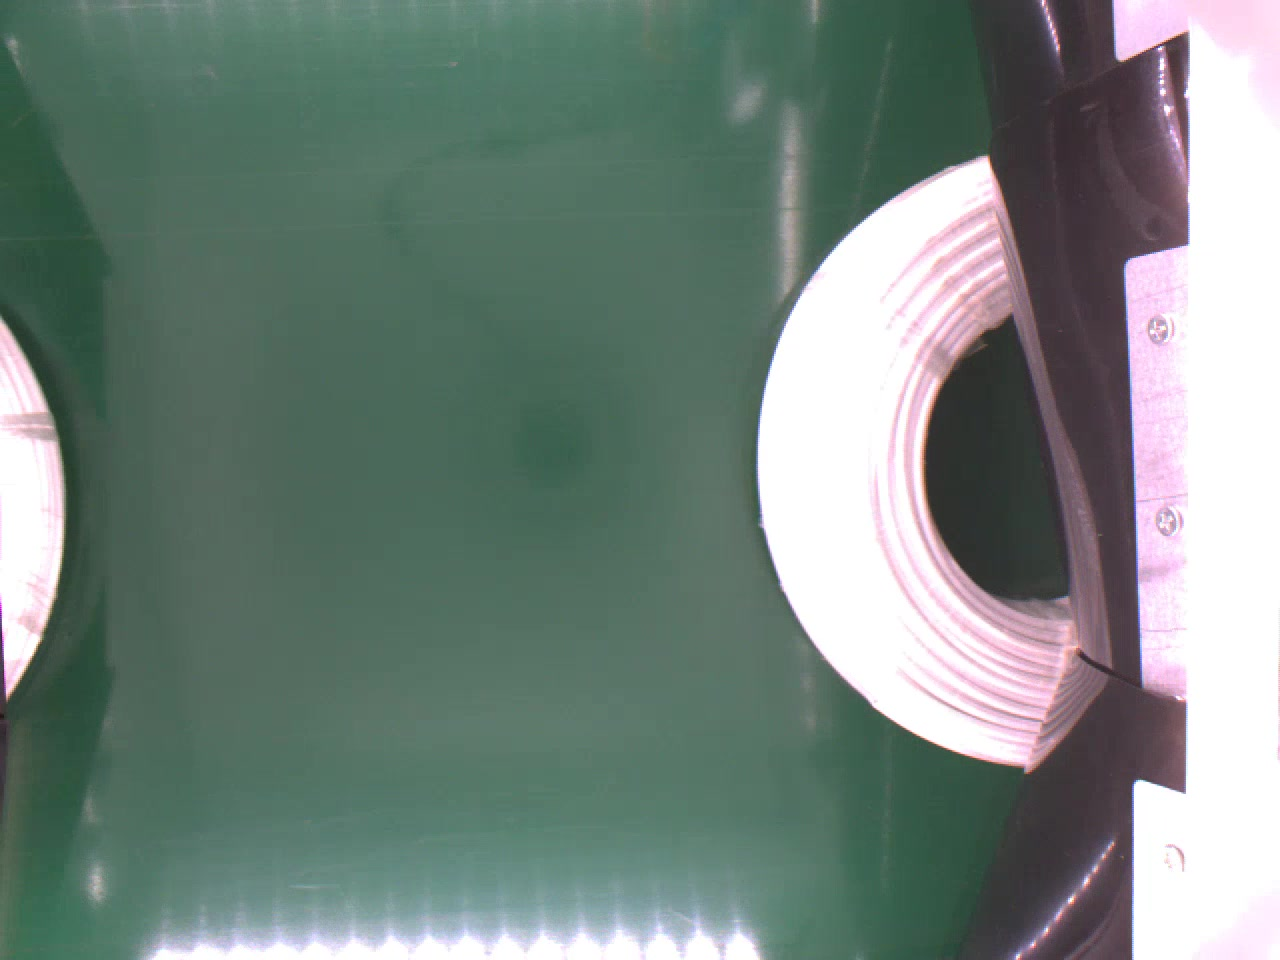white: (740, 151, 1075, 775)
